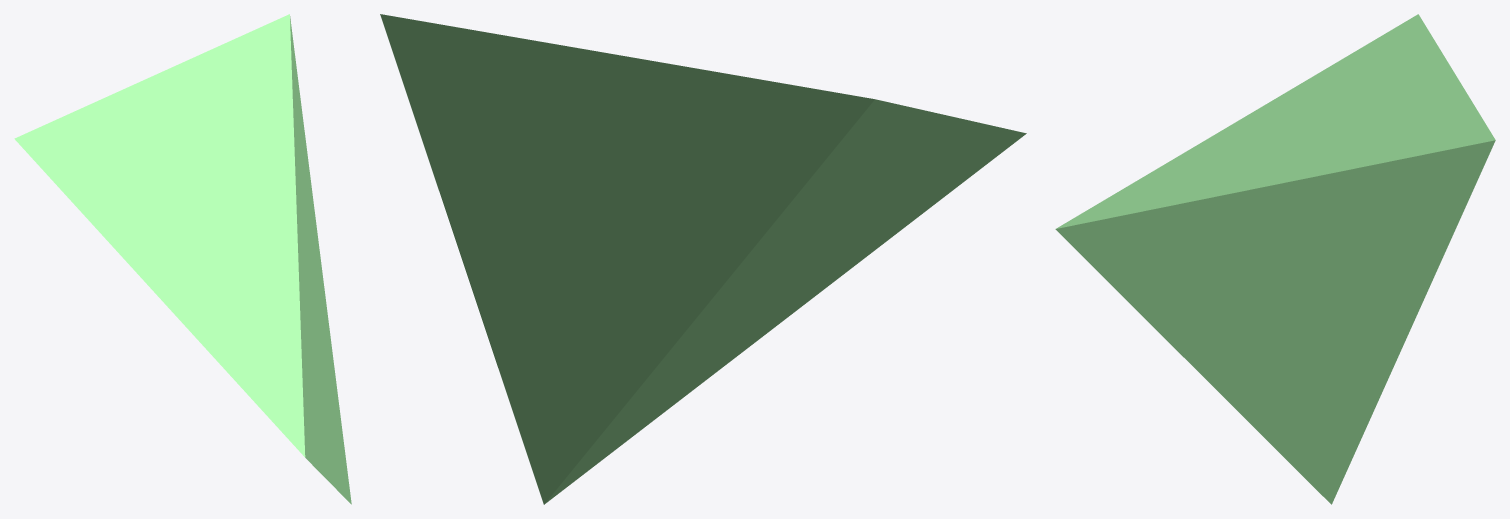
File: linkhou_LR4_R560_link5_respondable_coll_3.dae
3 renders of one model, left to right at view 1: azimuth 30°, elevation 25°; view 2: azimuth 150°, elevation 25°; view 3: azimuth 270°, elevation 25°, orthographic. The views are drawn at different scales.
Parts seen in each view (by area): view 1: Node_00000209DB3AB530; view 2: Node_00000209DB3AB530; view 3: Node_00000209DB3AB530.
Boxes of the visible parts, x1,y1,x2,y2 form: Node_00000209DB3AB530: (14,14,351,504); Node_00000209DB3AB530: (380,14,1026,504); Node_00000209DB3AB530: (1055,14,1495,504).
Bounding box in the file's own units: 0.00439 × 0.0055 × 0.00582.
